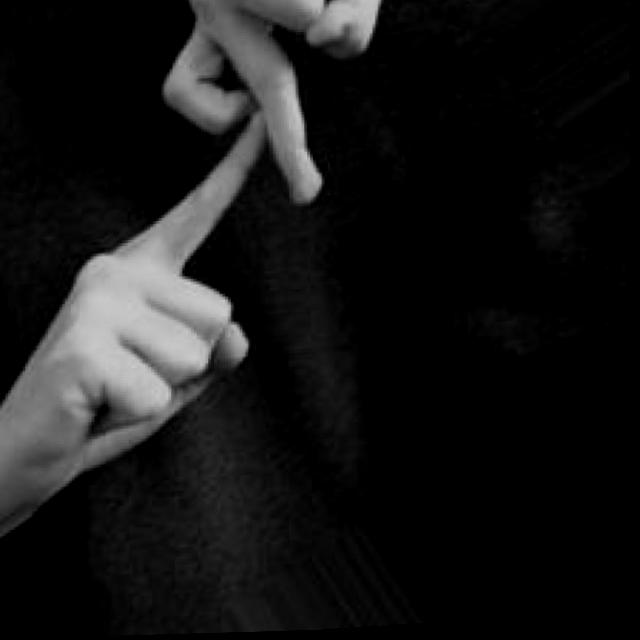R: (0, 0, 407, 542)
